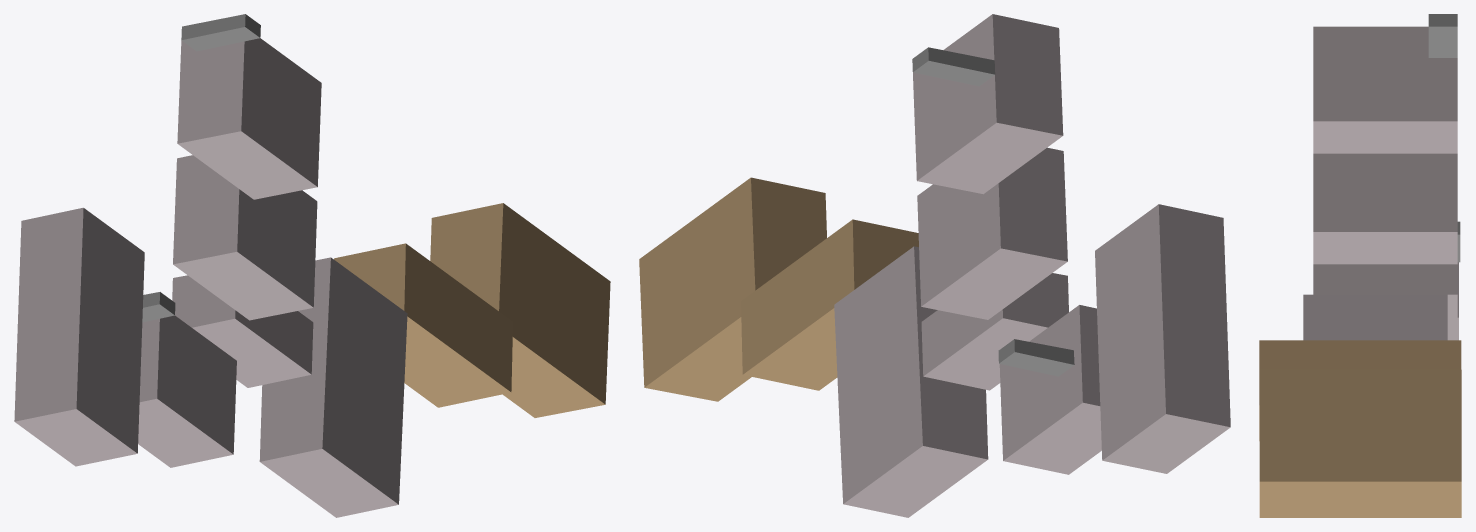
The picture shows the model from 3 angles, left to right: view 1: azimuth 30°, elevation 25°; view 2: azimuth 150°, elevation 25°; view 3: azimuth 270°, elevation 25°; orthographic projection. The views are drawn at different scales.
Parts seen in each view (by area): view 1: 0_2_1_3_0_0_2_0_0; view 2: 0_2_1_3_0_0_2_0_0; view 3: 0_2_1_3_0_0_2_0_0.
Part boxes in pixels (<box>): 0_2_1_3_0_0_2_0_0: <box>14,14,610,517</box>; 0_2_1_3_0_0_2_0_0: <box>639,14,1230,517</box>; 0_2_1_3_0_0_2_0_0: <box>1259,14,1461,517</box>.
Size of the model in its own units: 56.29 by 48.79 by 21.02.
